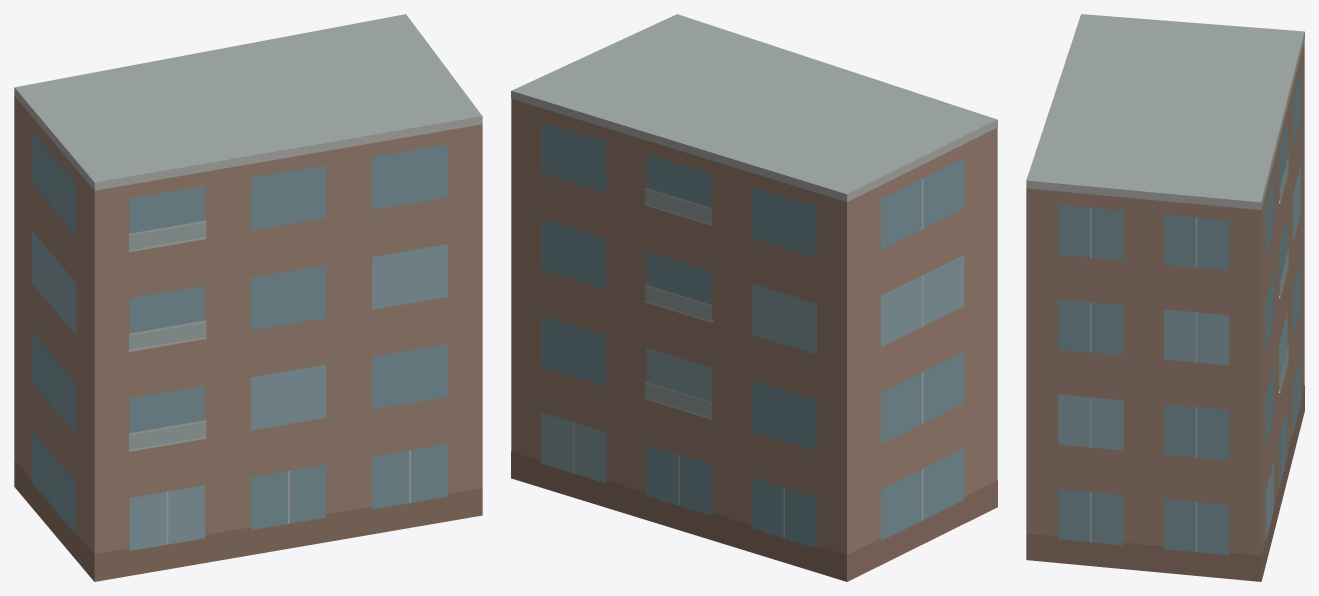
Rendered from survey-upis-32509329.glb.
3 renders of one model, left to right at view 1: azimuth 30°, elevation 25°; view 2: azimuth 150°, elevation 25°; view 3: azimuth 270°, elevation 25°, orthographic. The views are drawn at different scales.
Parts seen in each view (by area): view 1: survey-upis-32509329.tmp; view 2: survey-upis-32509329.tmp; view 3: survey-upis-32509329.tmp.
Boxes of the visible parts, x1,y1,x2,y2 form: survey-upis-32509329.tmp: (14,14,482,581); survey-upis-32509329.tmp: (511,14,997,581); survey-upis-32509329.tmp: (1026,14,1304,581).
Size of the model in its own units: 12.79 by 12 by 8.
